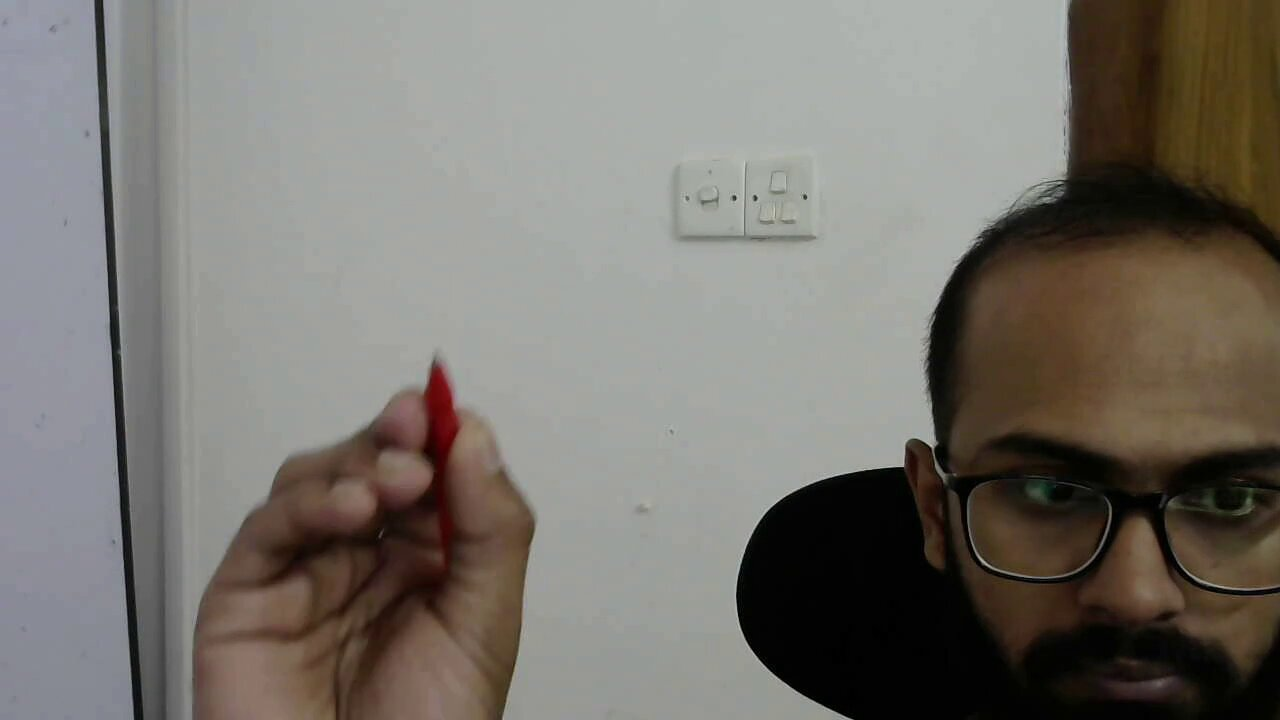pointer: (194, 390, 539, 720)
